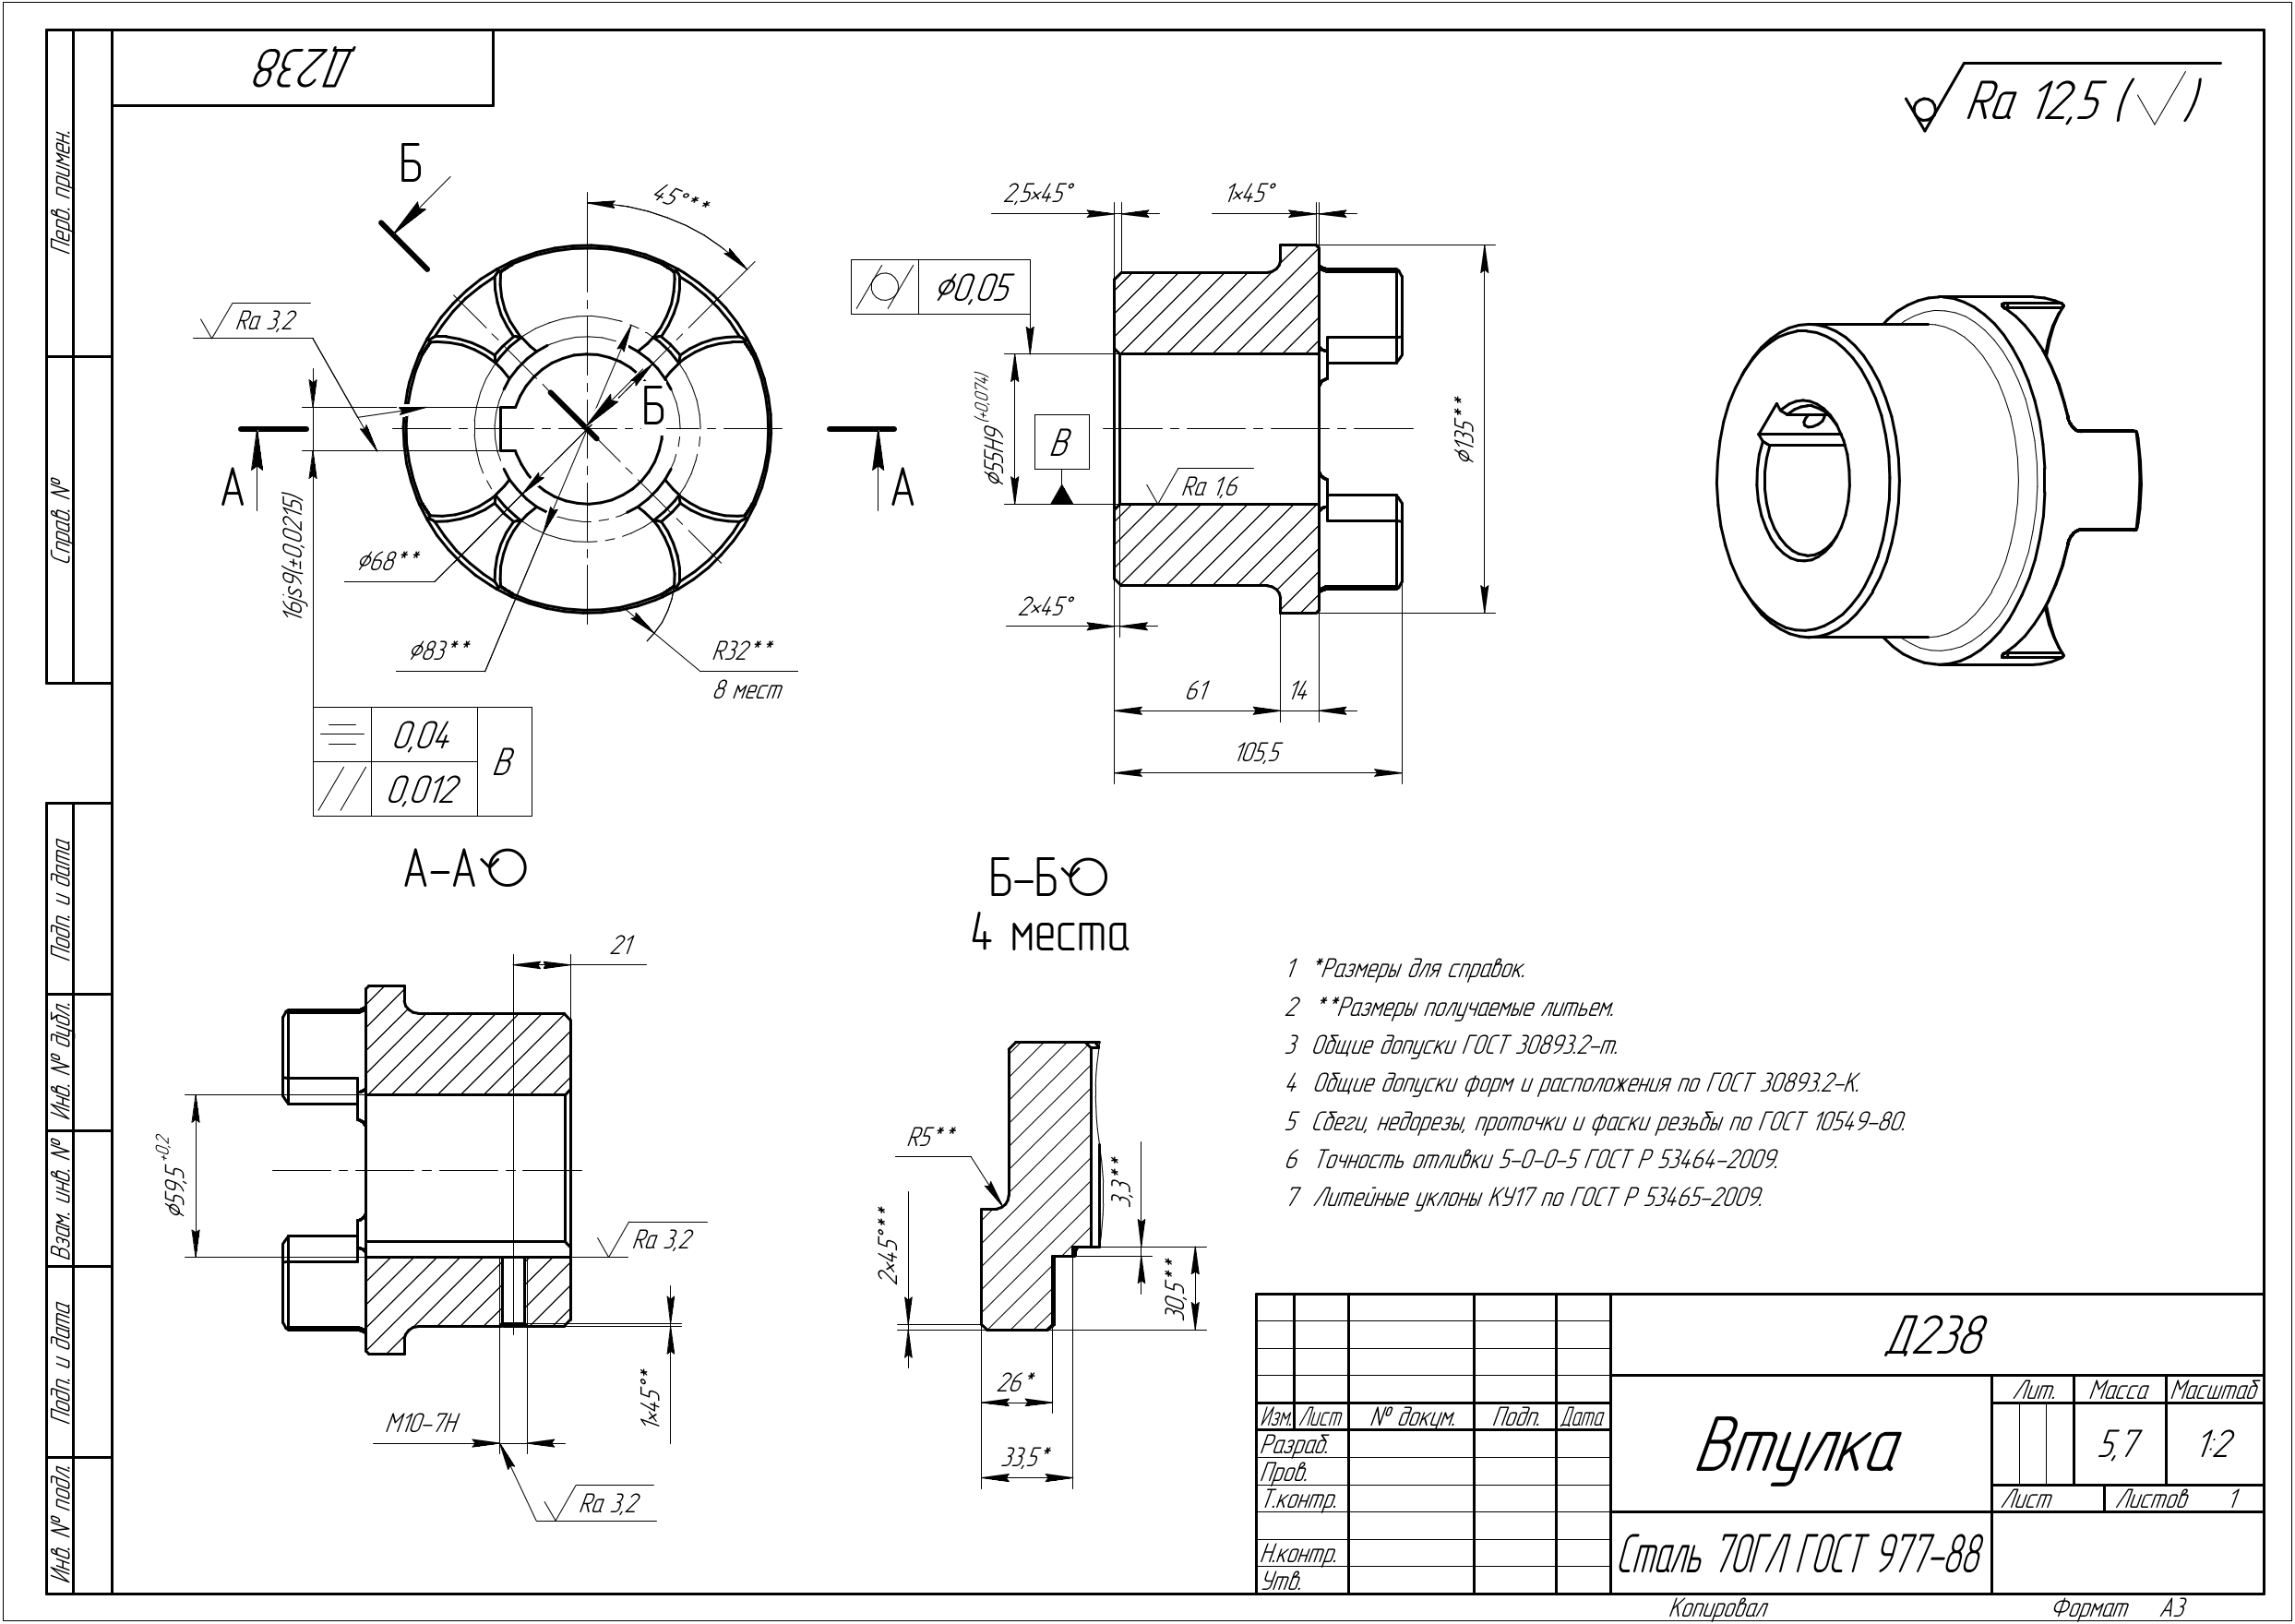Диаметральный размер: (1452, 243, 1499, 617), (153, 1091, 202, 1260), (968, 352, 1021, 508), (390, 633, 492, 675), (341, 545, 439, 587)
Допуск: (970, 367, 1009, 455)
Линейный размер: (1107, 740, 1406, 786), (274, 362, 320, 631), (1107, 673, 1283, 717), (506, 928, 648, 974), (1107, 1137, 1147, 1297), (1246, 671, 1360, 719), (977, 1441, 1075, 1492), (1160, 1244, 1211, 1334), (977, 1366, 1058, 1415)
Общая шероховатость: (1896, 46, 2239, 142)
Технические требования: (1272, 946, 1929, 1216)
Угловой размер: (582, 172, 764, 281)
Фаска: (629, 1280, 687, 1445), (872, 1183, 916, 1376), (988, 176, 1165, 221), (1000, 592, 1160, 638), (1211, 176, 1364, 220)
Шероховатость: (190, 292, 320, 343), (531, 1480, 661, 1526), (594, 1218, 710, 1260), (1144, 464, 1258, 506)
